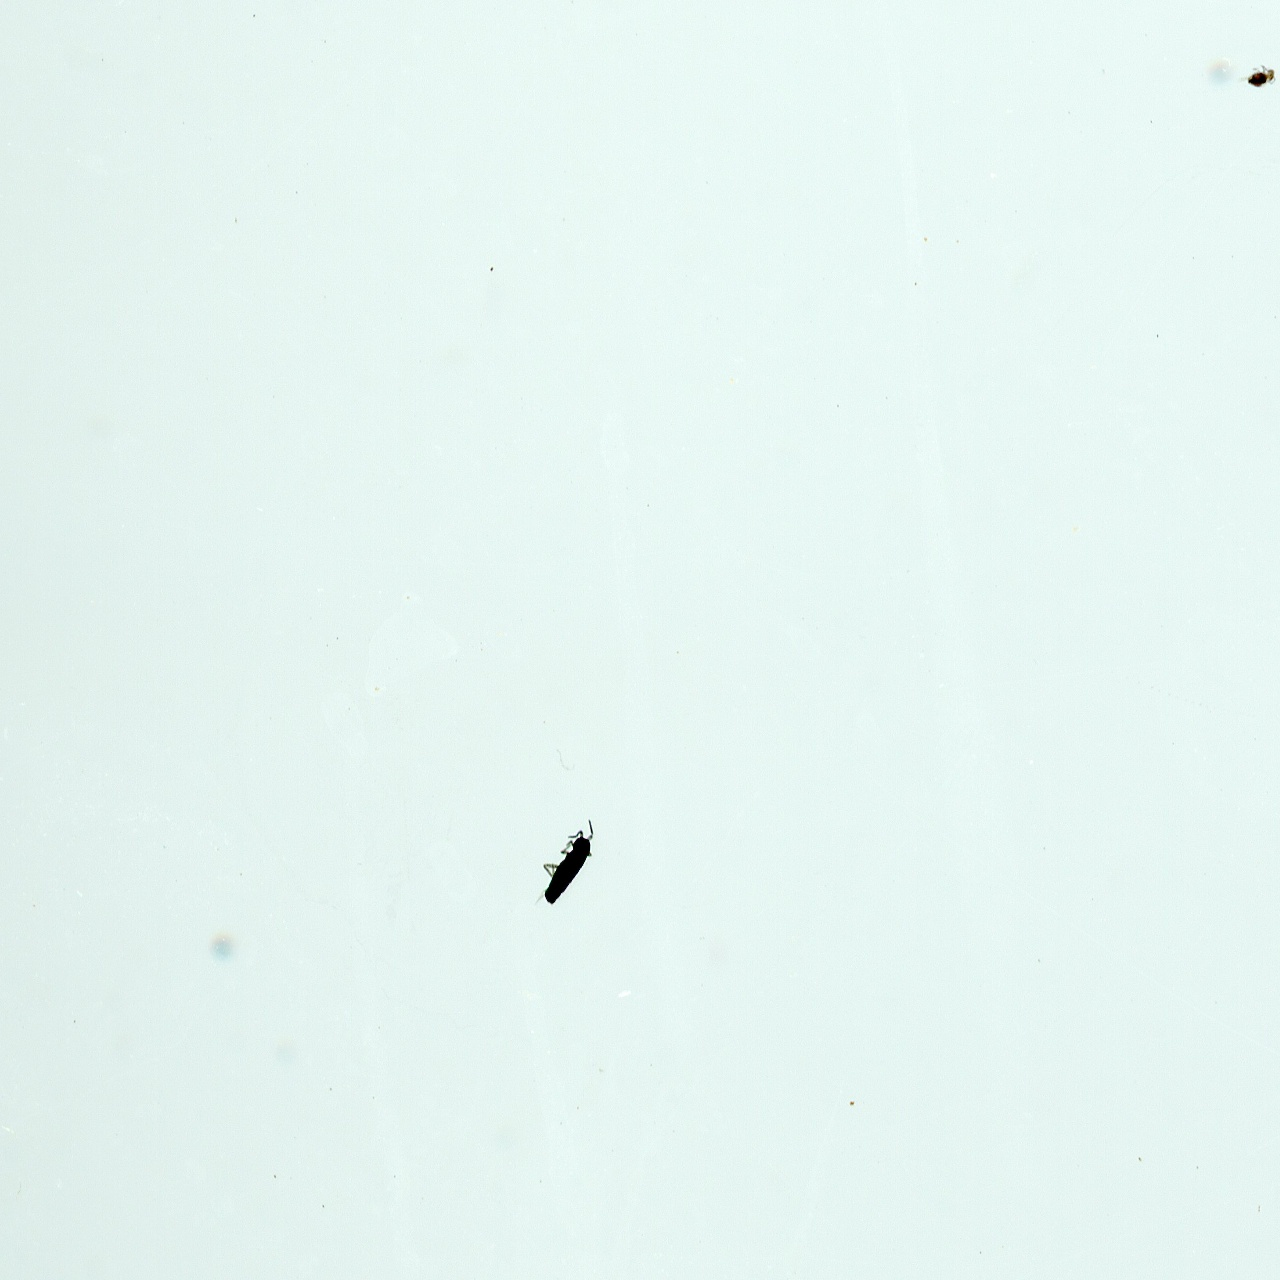arthropod: (516, 796, 618, 935), (1234, 60, 1280, 95)
